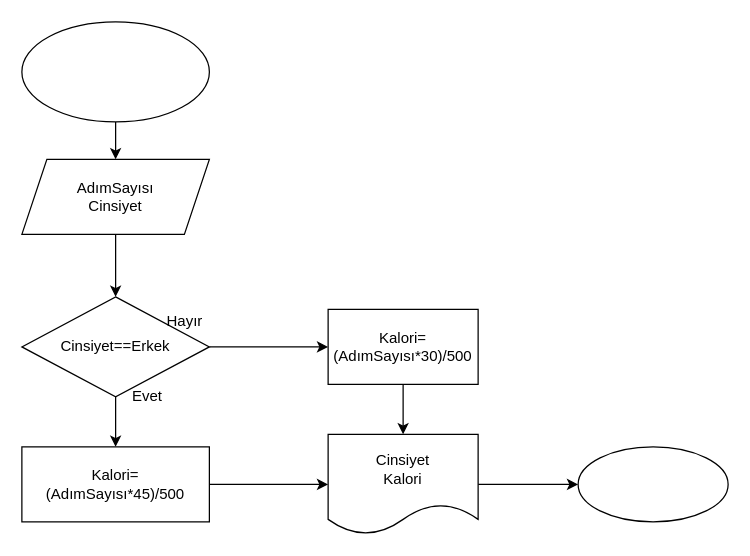
This 750x556 diagram has some shape labels left out. Each missing label, with the centre of its shape:
"Başla" goes at pixel 115 71.
"Dur" goes at pixel 652 484.
